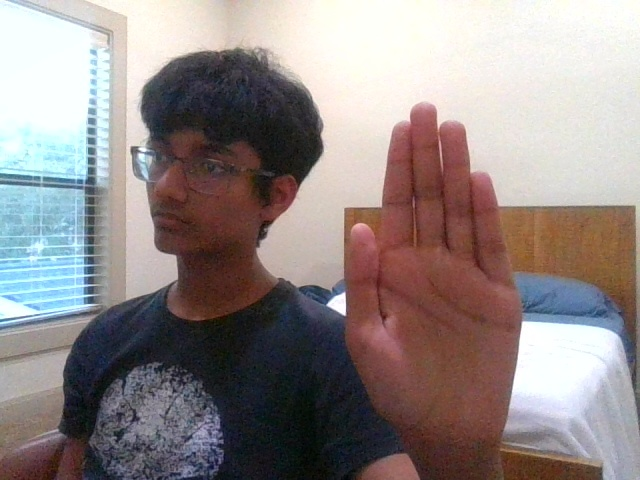hello: (346, 102, 522, 448)
